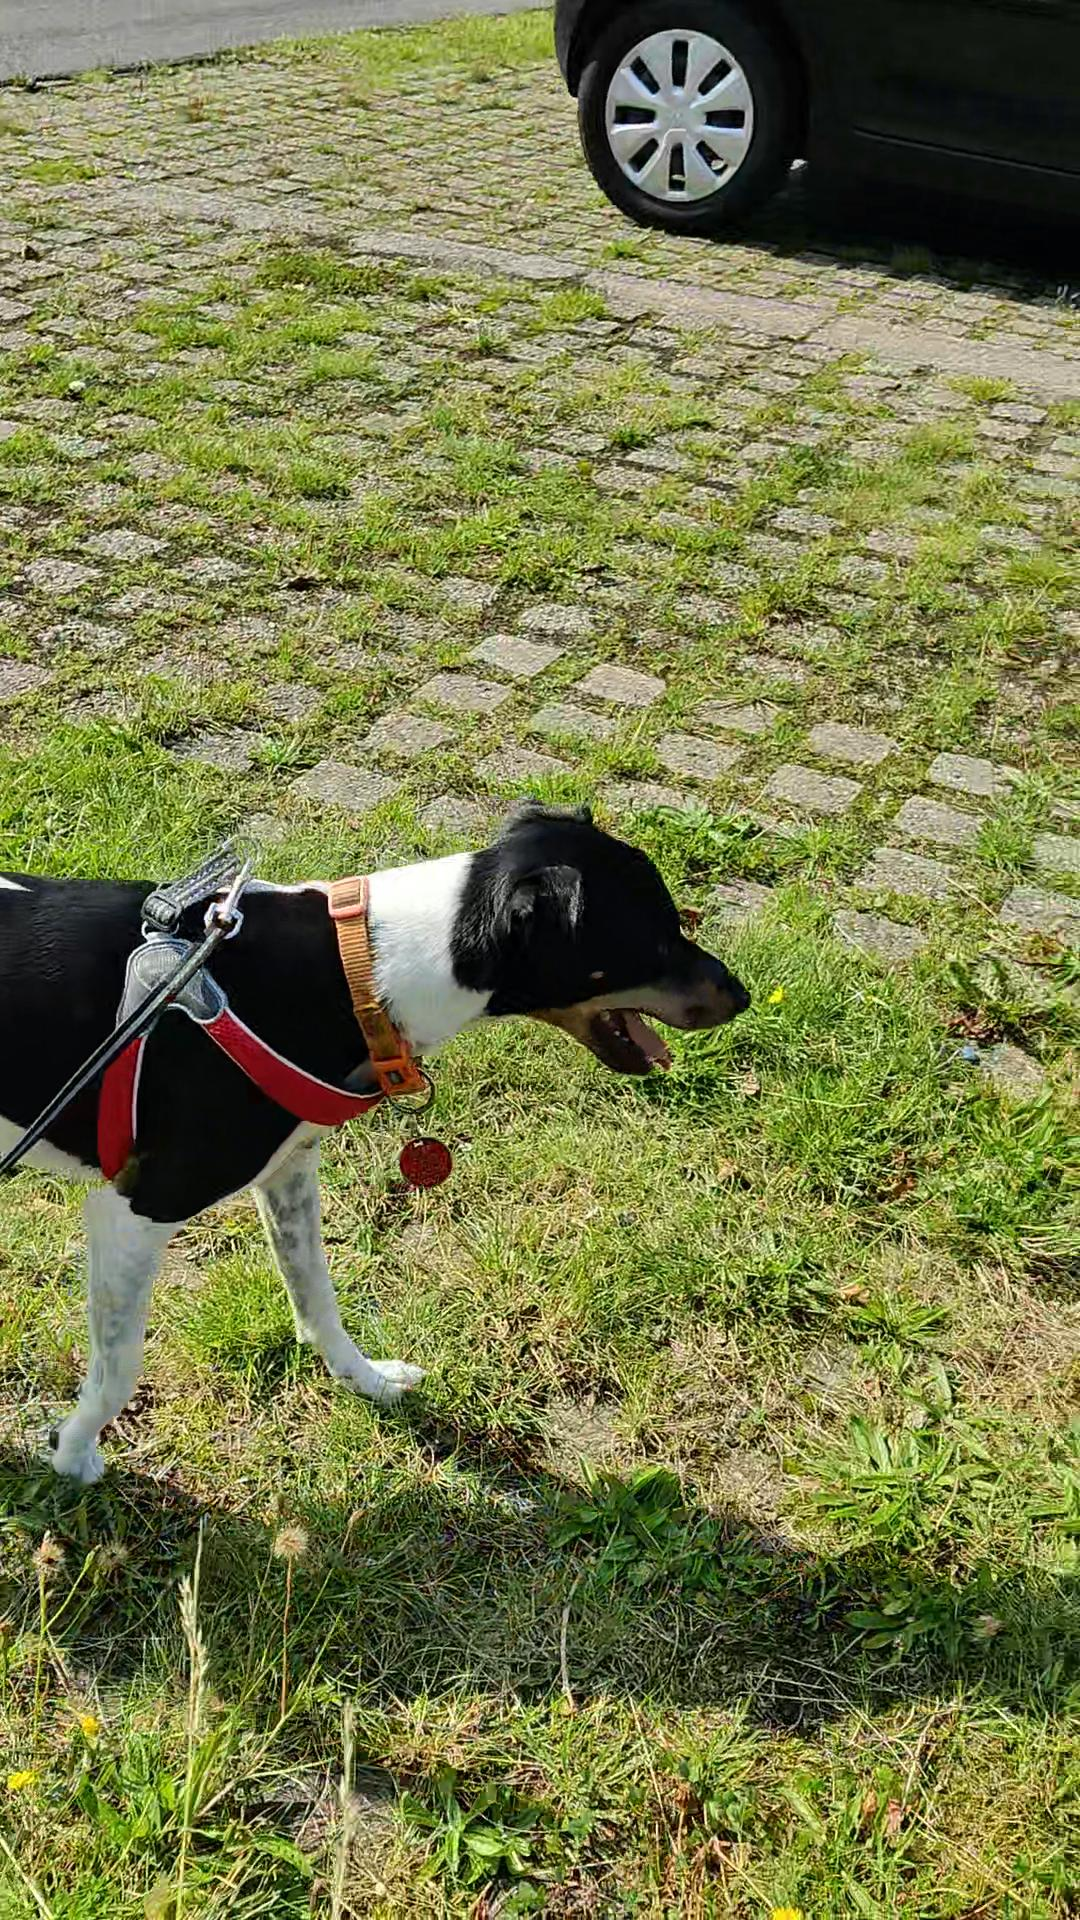Dog: (0, 789, 760, 1485)
